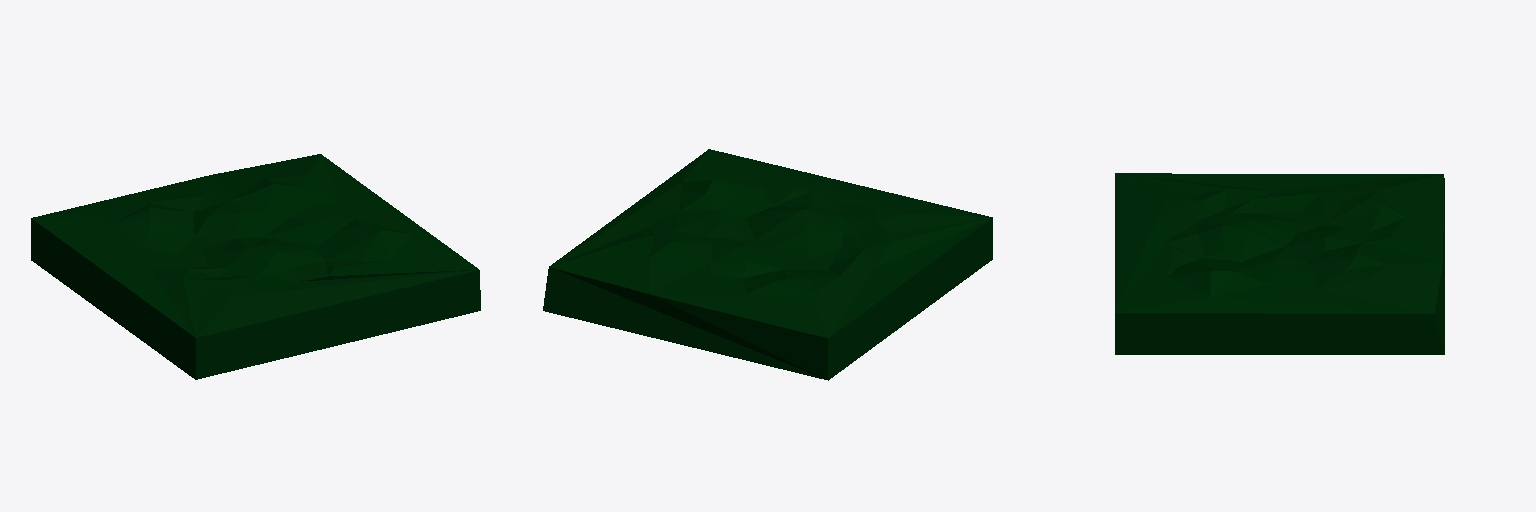
The model's file is bedeng_lapangan.obj.
The picture shows the model from 3 angles: view 1: azimuth 30°, elevation 25°; view 2: azimuth 150°, elevation 25°; view 3: azimuth 270°, elevation 25°; orthographic projection.
Visible parts, largest first — view 1: PP_Meadow_07.001_Scene.001; view 2: PP_Meadow_07.001_Scene.001; view 3: PP_Meadow_07.001_Scene.001.
Part boxes in pixels (bbox=[...]): PP_Meadow_07.001_Scene.001: bbox=[31, 154, 480, 379]; PP_Meadow_07.001_Scene.001: bbox=[543, 149, 992, 380]; PP_Meadow_07.001_Scene.001: bbox=[1115, 173, 1444, 354].
Bounding box in the file's own units: 0.9999 × 0.1973 × 1.